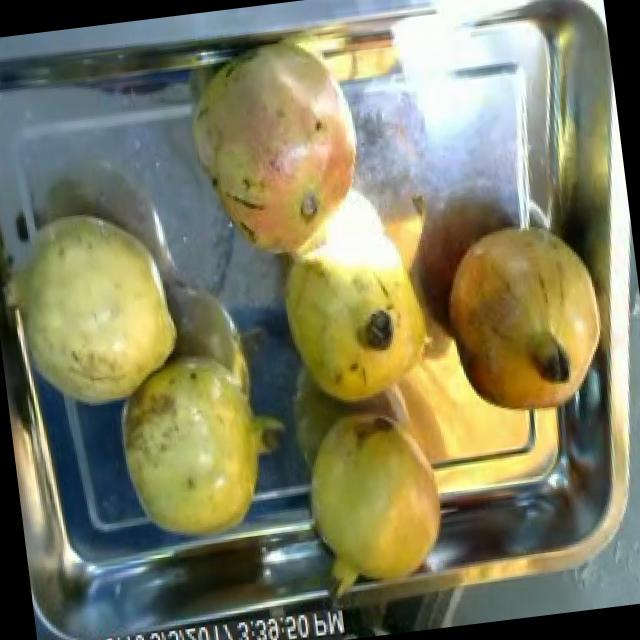fruit: (171, 20, 388, 287), (103, 332, 310, 554), (0, 191, 195, 426), (428, 198, 622, 432), (286, 386, 460, 606), (277, 252, 448, 418)
